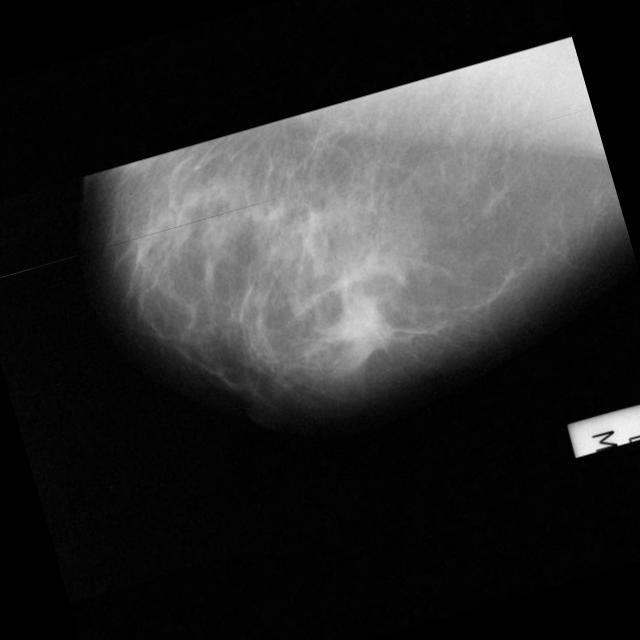ARCH: (298, 263, 428, 393)
